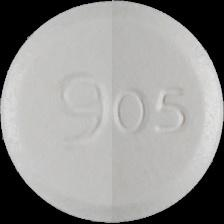0093-7305: (0, 0, 224, 224)
